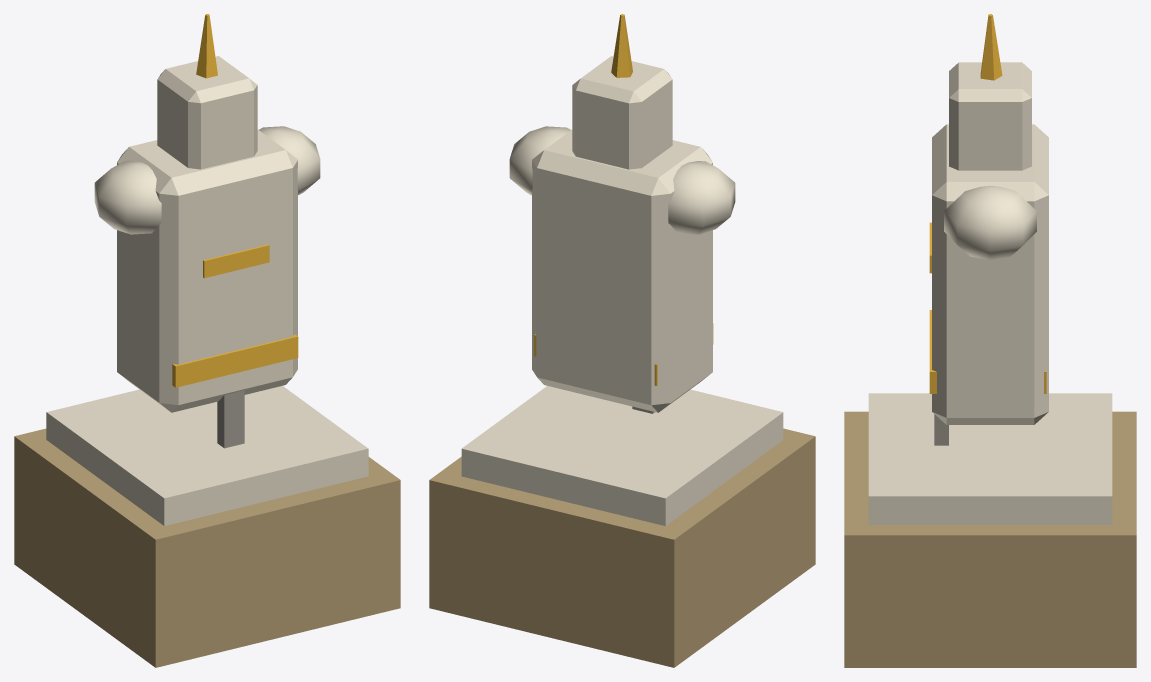
Rendered from hd_statue.gltf.
3 views of the same model, side by side, from view 1: azimuth 30°, elevation 25°; view 2: azimuth 150°, elevation 25°; view 3: azimuth 270°, elevation 25° (orthographic). The views are drawn at different scales.
Visible parts, largest first — view 1: plinth, torso, plinthT, head, pauld-0.34, belt, pauld0.34, blade, guard, crest; view 2: plinth, torso, plinthT, head, pauld-0.34, pauld0.34, crest; view 3: plinth, plinthT, torso, head, pauld0.34, crest, belt.
Boxes of the visible parts, x1,y1,x2,y2 form: plinth: (14,428,400,667); torso: (117,129,297,412); plinthT: (46,386,368,525); head: (157,56,257,169); pauld-0.34: (94,161,161,234); belt: (172,334,298,387); pauld0.34: (259,126,320,195); blade: (217,390,244,448); guard: (203,244,269,278); crest: (196,14,217,78); plinth: (429,428,815,667); torso: (532,130,712,412); plinthT: (461,386,783,525); head: (572,56,672,169); pauld-0.34: (668,161,735,234); pauld0.34: (509,126,570,195); crest: (611,14,632,77); plinth: (844,411,1136,667); plinthT: (868,393,1112,524); torso: (932,124,1048,424); head: (949,62,1031,170); pauld0.34: (944,185,1036,260); crest: (980,14,1002,80); belt: (929,310,1046,393).
Bounding box in the file's own units: 1.2 × 2.67 × 1.2.
